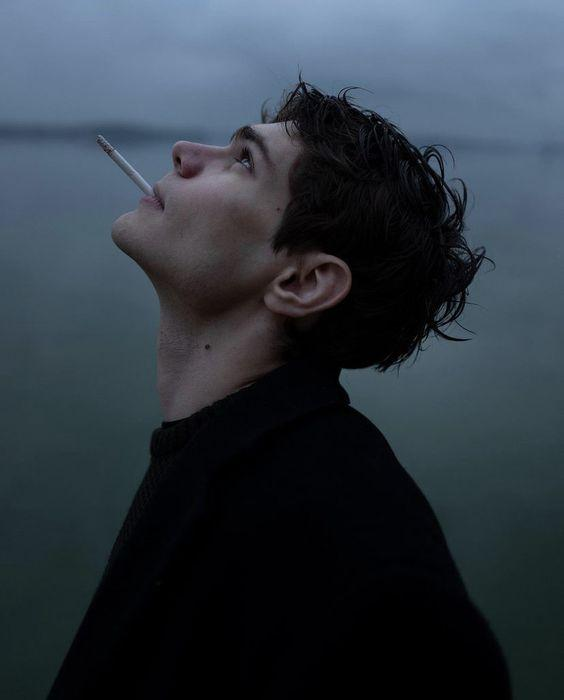cigarette: (96, 134, 155, 197)
